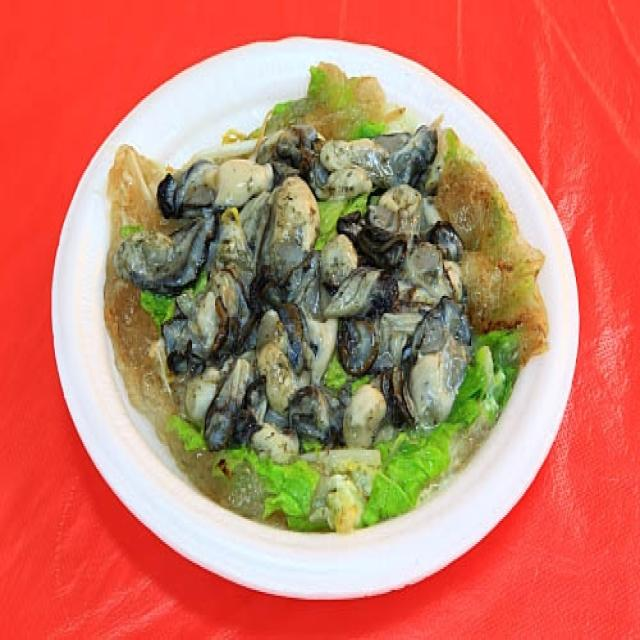熟制海鲜: (69, 21, 559, 575)
